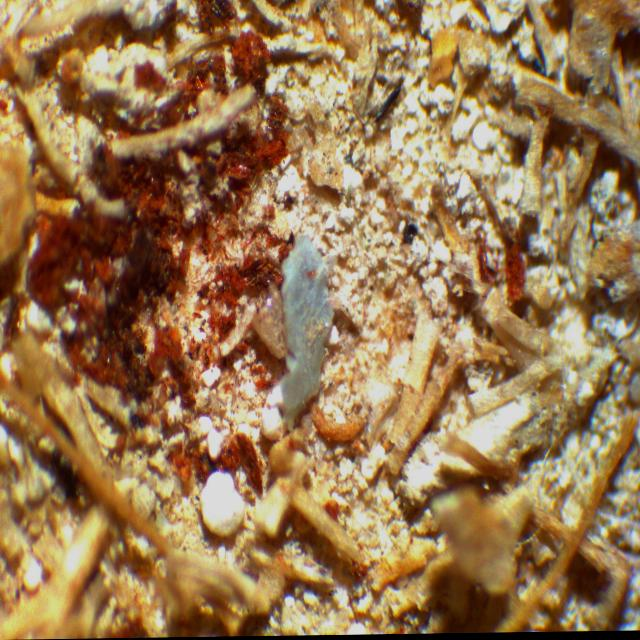microplastic: (280, 234, 336, 431)
